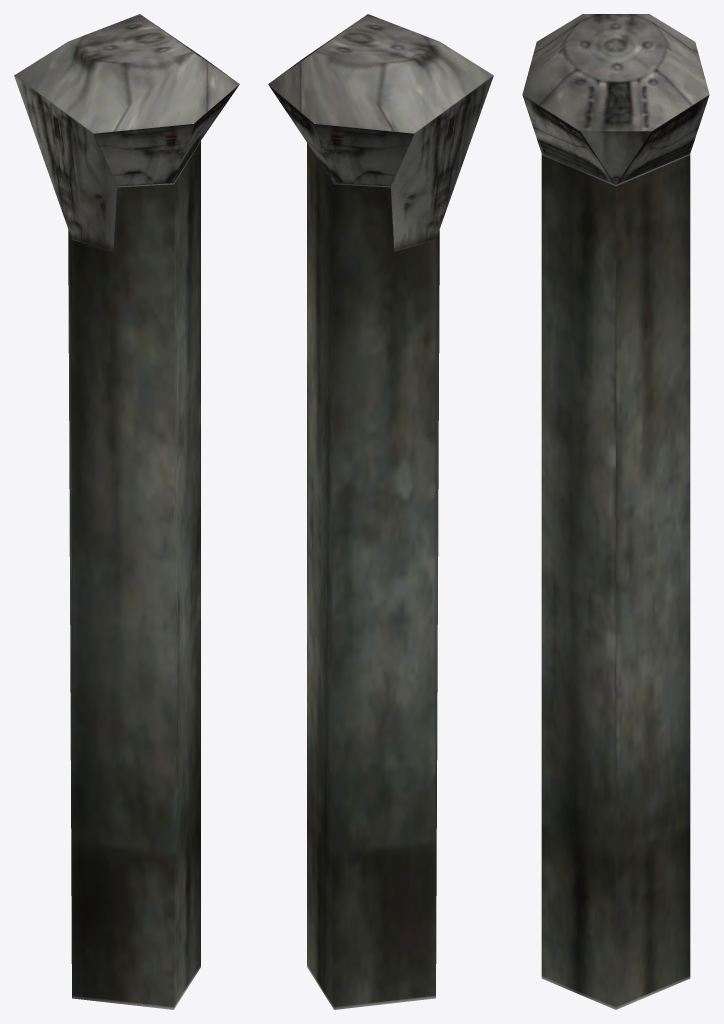
Rendered from ins_all_min_s02_u1_piston_l4.fbx.
3 renders of one model, left to right at view 1: azimuth 30°, elevation 25°; view 2: azimuth 150°, elevation 25°; view 3: azimuth 270°, elevation 25°, orthographic.
Parts seen in each view (by area): view 1: mesh_node; view 2: mesh_node; view 3: mesh_node.
Boxes of the visible parts, box(x1,y1,x2,y2) form: mesh_node: box(14, 14, 239, 1009); mesh_node: box(268, 14, 493, 1009); mesh_node: box(522, 14, 709, 1009).
Size of the model in its own units: 2.23 by 11.94 by 2.16.
Materials: 1 (1 with a texture image).
